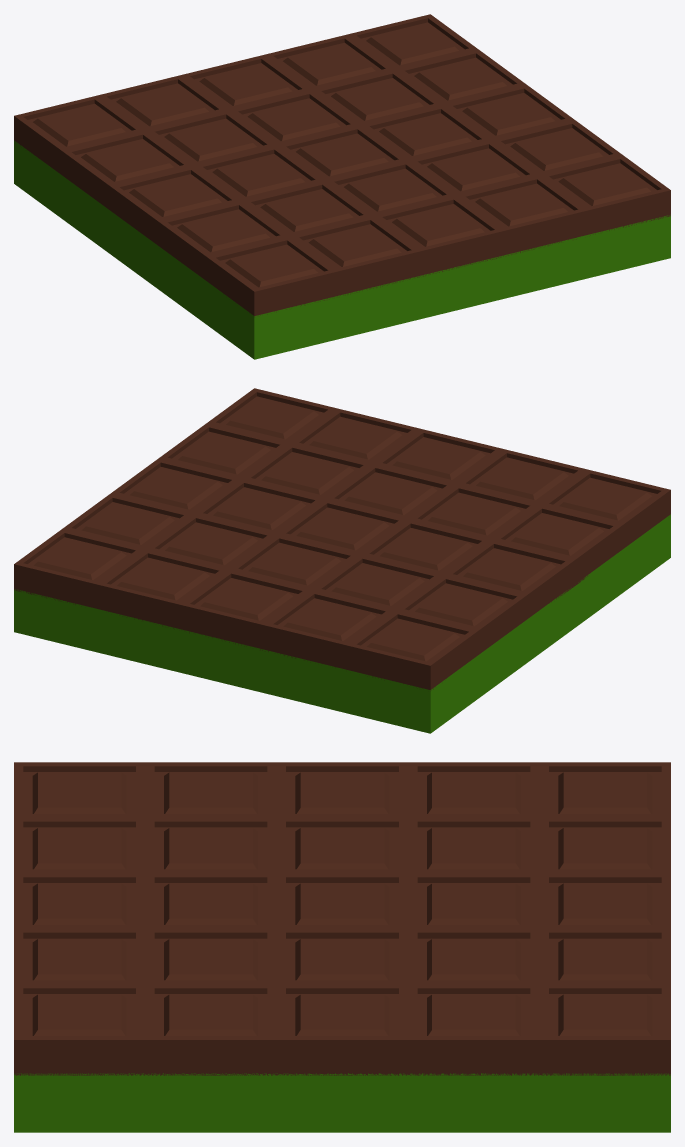
The model's file is Warehouse.obj.
3 renders of one model, top to bottom at view 1: azimuth 30°, elevation 25°; view 2: azimuth 150°, elevation 25°; view 3: azimuth 270°, elevation 25°, orthographic. The views are drawn at different scales.
Visible parts, largest first — view 1: Tilebase100, Box118, Box120, Box122, Box119, Box121, Box098, Box088, Box108, Box078, Box079, Box081 (+14 smaller); view 2: Tilebase100, Box078, Box082, Box080, Box081, Box079, Box098, Box108, Box088, Box118, Box090, Box101 (+14 smaller); view 3: Tilebase100, Box102, Box082, Box122, Box092, Box112, Box099, Box089, Box109, Box079, Box119, Box098 (+14 smaller).
Part boxes in pixels (x1,y1,x2,y2): Tilebase100: [14, 140, 670, 359]; Box118: [206, 236, 337, 316]; Box120: [373, 195, 504, 276]; Box122: [540, 155, 670, 235]; Box119: [290, 216, 420, 295]; Box121: [457, 175, 587, 256]; Box098: [110, 166, 240, 245]; Box088: [62, 130, 192, 210]; Box108: [158, 201, 288, 280]; Box078: [14, 95, 144, 174]; Box079: [97, 75, 228, 130]; Box081: [264, 34, 394, 89]; Tilebase100: [14, 514, 670, 733]; Box078: [347, 610, 478, 690]; Box082: [14, 529, 144, 608]; Box080: [180, 569, 311, 650]; Box081: [97, 549, 227, 629]; Box079: [264, 590, 394, 669]; Box098: [444, 540, 574, 619]; Box108: [492, 504, 622, 585]; Box088: [396, 575, 526, 654]; Box118: [540, 469, 670, 548]; Box090: [229, 534, 359, 589]; Box101: [194, 479, 324, 534]; Tilebase100: [14, 1073, 670, 1132]; Box102: [276, 984, 408, 1075]; Box082: [539, 984, 670, 1075]; Box122: [14, 984, 145, 1075]; Box092: [408, 984, 539, 1075]; Box112: [145, 984, 276, 1075]; Box099: [276, 817, 408, 873]; Box089: [408, 817, 539, 873]; Box109: [145, 817, 276, 873]; Box079: [539, 817, 670, 873]; Box119: [14, 817, 145, 873]; Box098: [276, 762, 408, 817].
Size of the model in its own units: 10 by 1.56 by 10.
